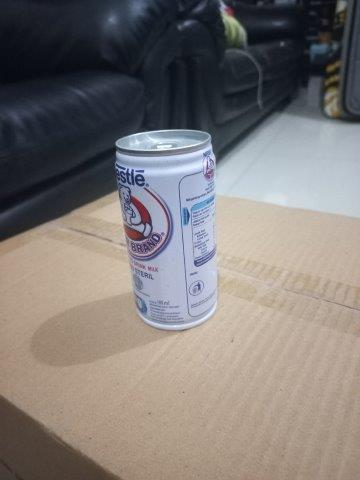kaleng: (113, 129, 217, 327)
kardus: (2, 182, 360, 480)
